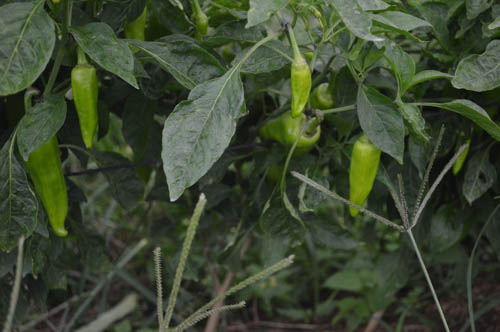ChiliPepper: (21, 118, 76, 241), (62, 62, 109, 148), (345, 132, 383, 230), (252, 107, 321, 154), (286, 54, 324, 119), (121, 5, 151, 57), (450, 130, 474, 174), (312, 82, 336, 117)
